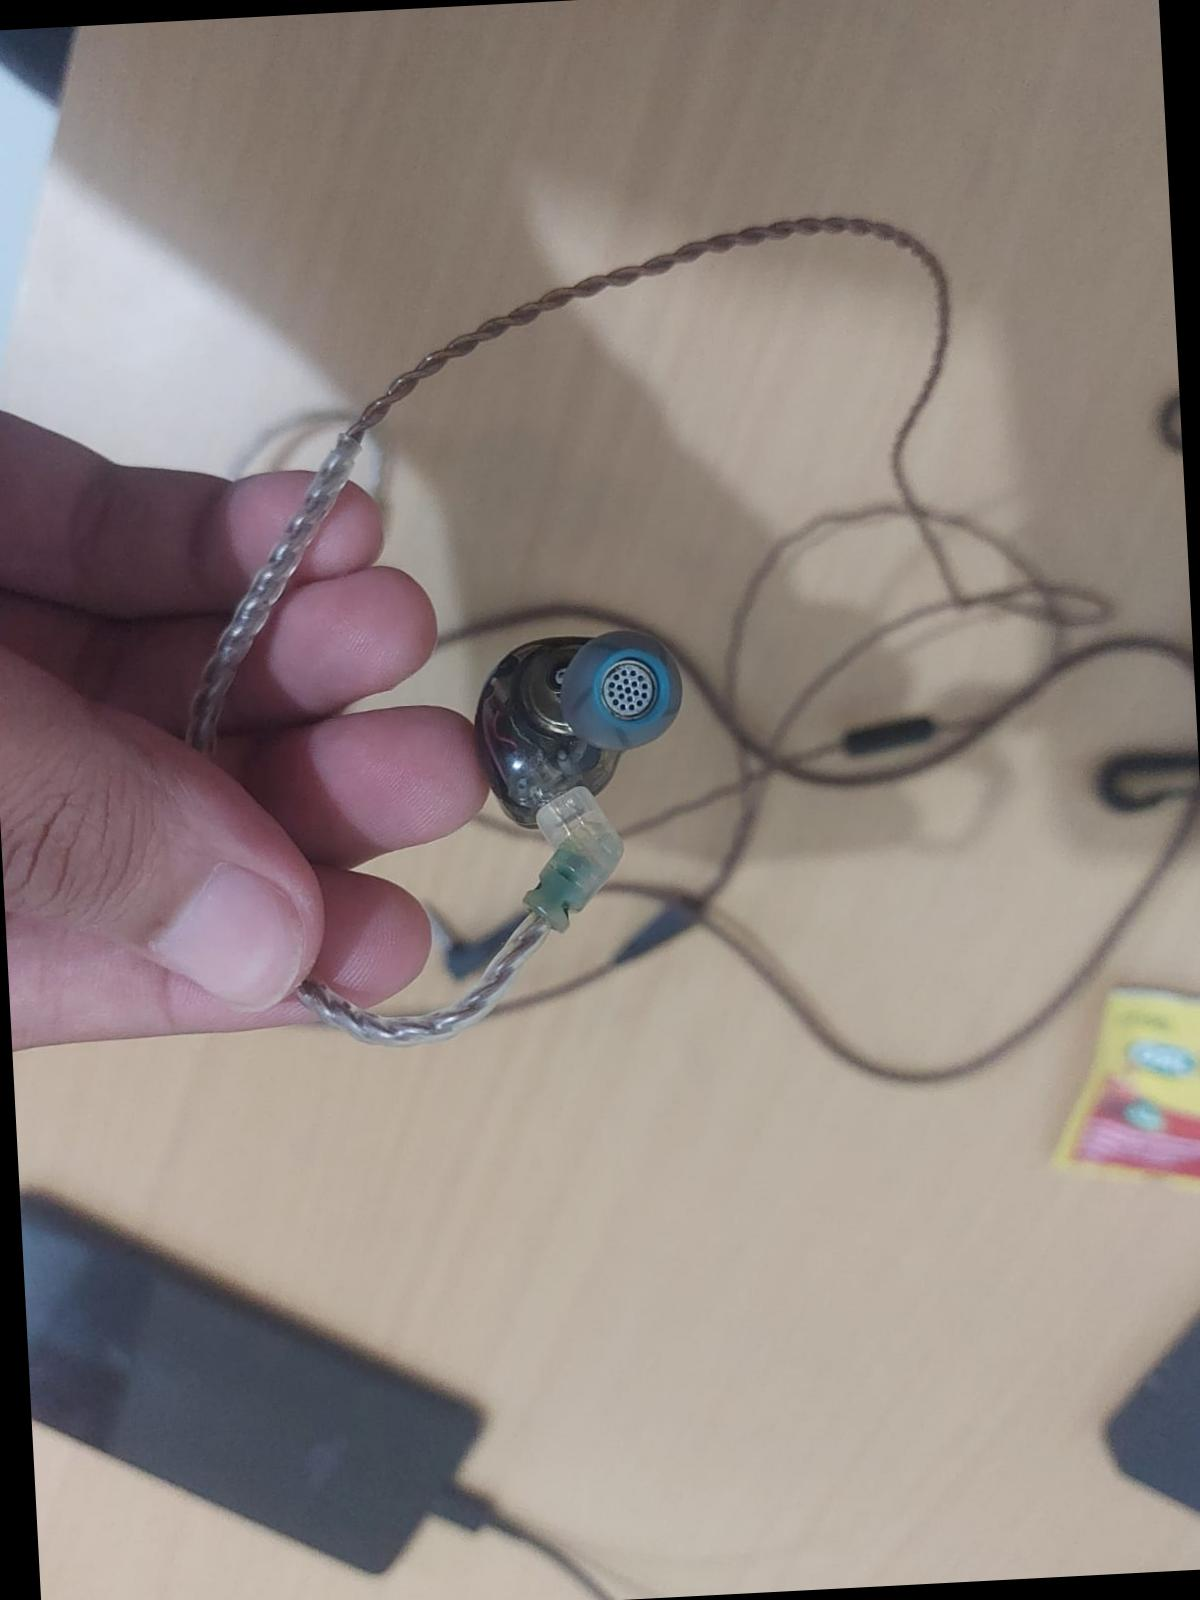Earphone: (450, 614, 718, 922)
